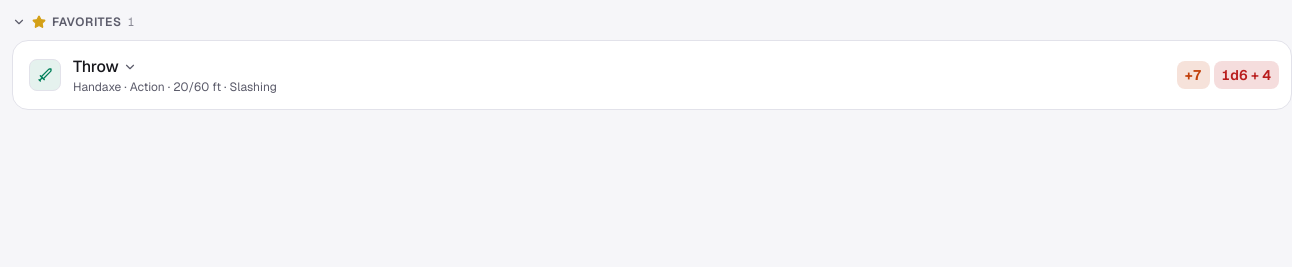
Test case: components/character-sheet/favorites › shows an activity with what the sheet lists of its item, opening to its description
Check: the button named "Throw attack, +7" is shown, box [1177,61,1210,89]
Step 1. Click the button "Throw Handaxe · Action · 20/60 ft · Slashing" → (45, 75), box [23,53,1169,97]
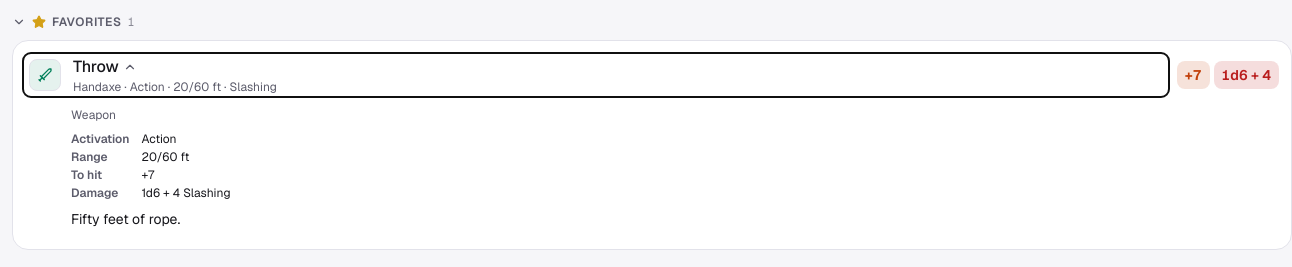
Check: the text "Fifty feet of rope." is shown, box [71,210,180,228]
Check: the text "Weapon" is shown, box [71,107,116,123]
